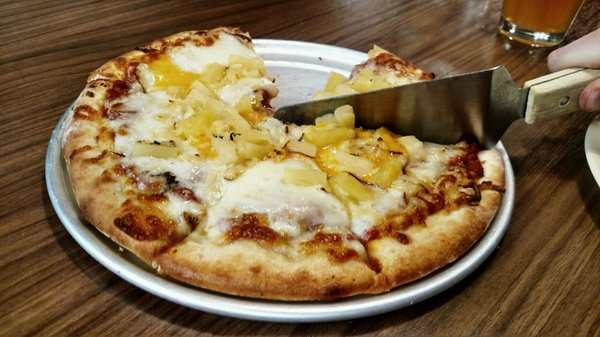pizza: (497, 1, 584, 47)
